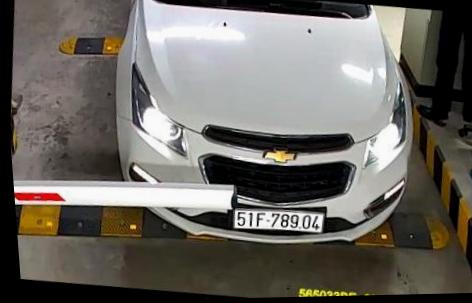License_Plate: (223, 204, 329, 241)
